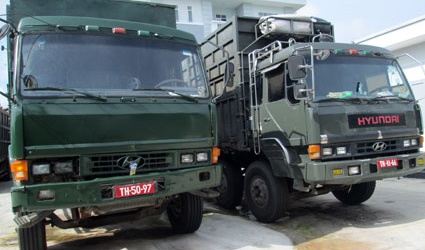plate: (111, 181, 156, 198), (376, 157, 399, 171)
